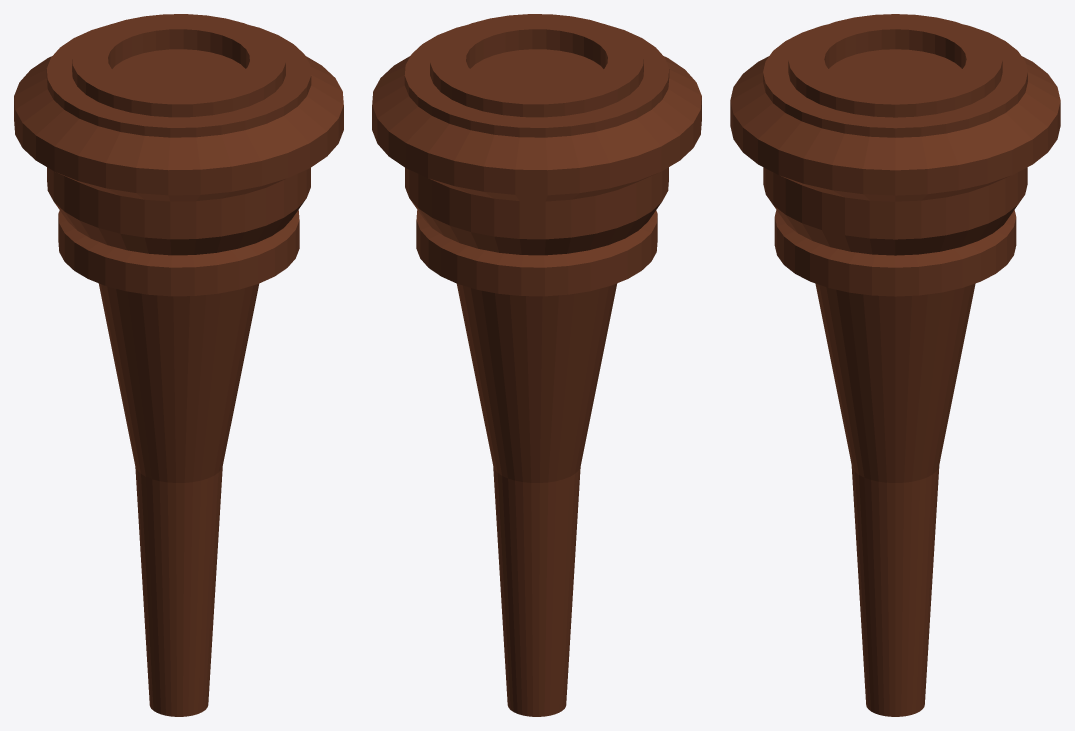
File: Torch.fbx
The picture shows the model from 3 angles, left to right: view 1: azimuth 30°, elevation 25°; view 2: azimuth 150°, elevation 25°; view 3: azimuth 270°, elevation 25°; orthographic projection.
Parts seen in each view (by area): view 1: Circle.007; view 2: Circle.007; view 3: Circle.007.
Part boxes in pixels (box(x1,y1,x2,y2)): Circle.007: box(14, 14, 343, 716); Circle.007: box(372, 14, 701, 716); Circle.007: box(730, 14, 1060, 716).
Size of the model in its own units: 54.59 by 118 by 54.59.
